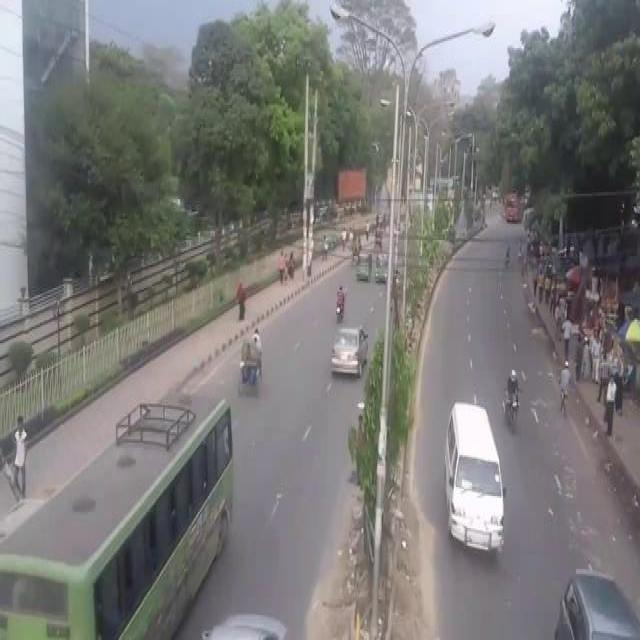bike: (502, 367, 522, 435), (556, 357, 572, 421), (335, 279, 348, 327)
vehicle: (1, 389, 239, 631), (442, 397, 508, 566), (329, 320, 370, 382), (237, 324, 265, 400), (355, 251, 373, 285), (375, 251, 390, 285)
